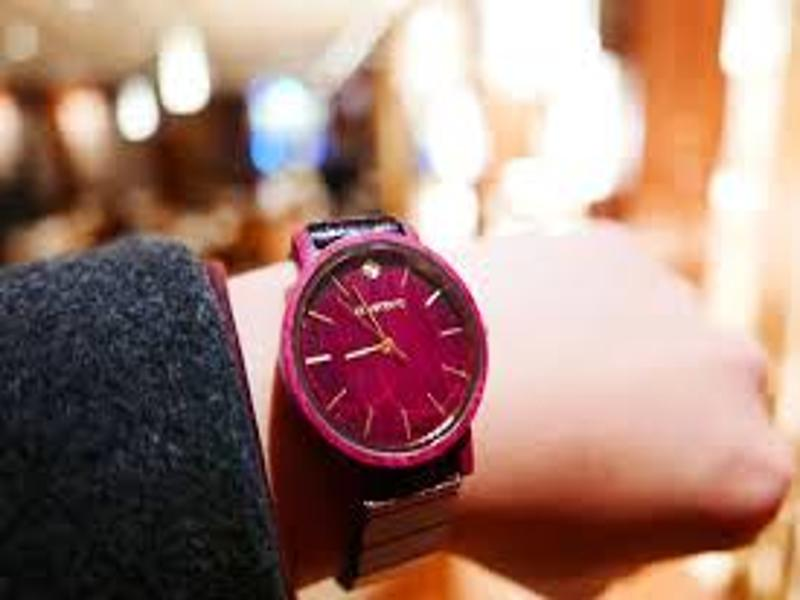watch: (274, 214, 490, 589)
